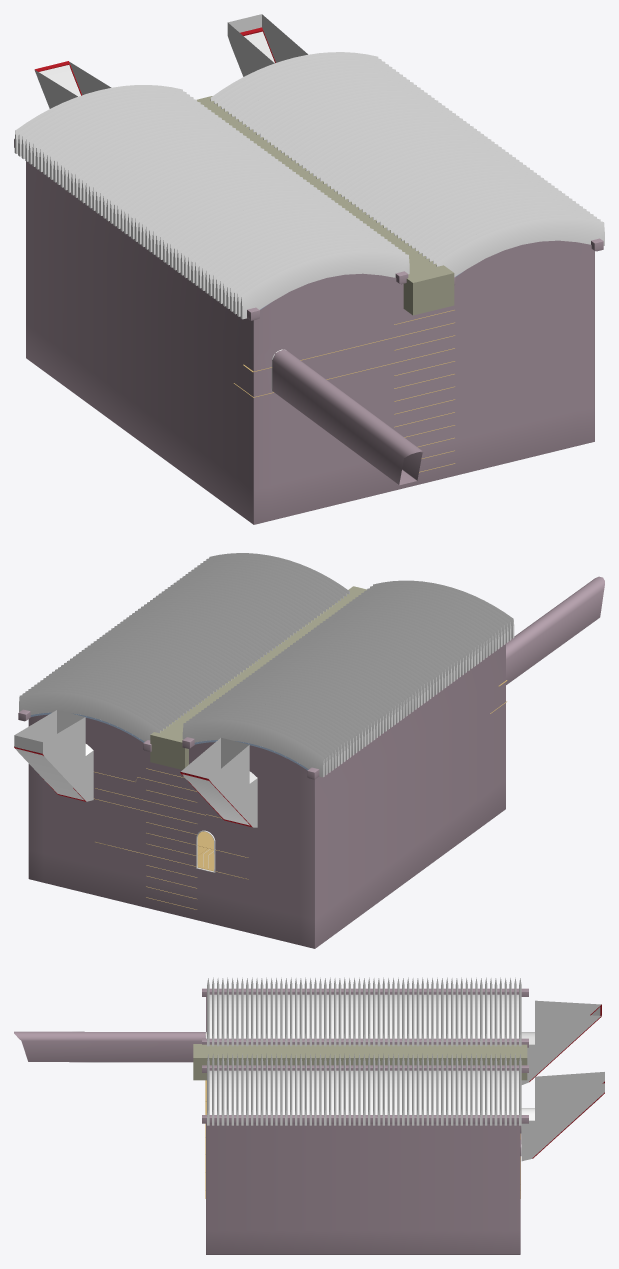
Rendered from Center_Atrium.glb.
3 views of the same model, one above another, from view 1: azimuth 30°, elevation 25°; view 2: azimuth 150°, elevation 25°; view 3: azimuth 270°, elevation 25° (orthographic). The views are drawn at different scales.
Parts seen in each view (by area): view 1: BigAtriumWalls, RadBlindBeam, BigAtriumCenterBeam, EarthViewBox3, EarthViewBox2, LevelsAndStairs; view 2: BigAtriumWalls, RadBlindBeam, EarthViewBox3, EarthViewBox2, BigAtriumCenterBeam, LevelsAndStairs; view 3: BigAtriumWalls, RadBlindBeam, GlazingBigAtriumEast, GlazingBigAtriumWest, BigAtriumCenterBeam, EarthViewBox3, EarthViewBox2, AnchorBeamsWest, AnchorBeamsEast.
Boxes of the visible parts, <box> form: BigAtriumWalls: <box>26,161,594,524</box>; RadBlindBeam: <box>14,52,604,319</box>; BigAtriumCenterBeam: <box>197,96,454,315</box>; EarthViewBox3: <box>227,14,307,76</box>; EarthViewBox2: <box>35,62,111,108</box>; LevelsAndStairs: <box>233,310,455,472</box>; BigAtriumWalls: <box>28,576,604,948</box>; RadBlindBeam: <box>19,553,514,777</box>; EarthViewBox3: <box>14,710,93,801</box>; EarthViewBox2: <box>181,738,257,827</box>; BigAtriumCenterBeam: <box>150,586,366,769</box>; LevelsAndStairs: <box>94,680,507,909</box>; BigAtriumWalls: <box>14,997,521,1254</box>; RadBlindBeam: <box>207,977,521,1125</box>; GlazingBigAtriumEast: <box>209,1070,518,1114</box>; GlazingBigAtriumWest: <box>209,994,518,1038</box>; BigAtriumCenterBeam: <box>193,1044,527,1080</box>; EarthViewBox3: <box>521,1072,604,1161</box>; EarthViewBox2: <box>521,1000,601,1084</box>; AnchorBeamsWest: <box>202,1065,528,1123</box>; AnchorBeamsEast: <box>202,988,528,1047</box>.
Size of what is drawn, in the model's own units: 88.99 by 58.69 by 182.
